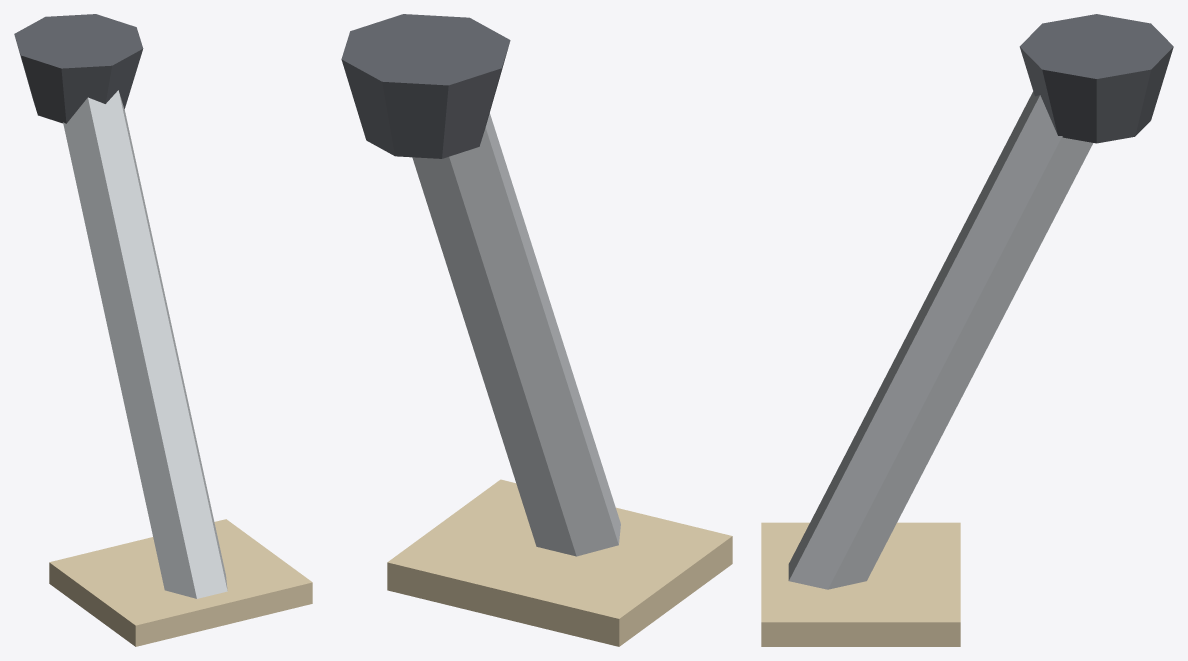
File: travelling-circus-and-big-top-tent-stake-45ad3a7f__36233.glb
3 views of the same model, side by side, from view 1: azimuth 30°, elevation 25°; view 2: azimuth 150°, elevation 25°; view 3: azimuth 270°, elevation 25° (orthographic). The views are drawn at different scales.
Parts seen in each view (by area): view 1: tent-stake-steel, tent-stake-sawdust, tent-stake-charcoal; view 2: tent-stake-steel, tent-stake-sawdust, tent-stake-charcoal; view 3: tent-stake-steel, tent-stake-sawdust, tent-stake-charcoal.
Part boxes in pixels (bbox=[...]): tent-stake-steel: bbox=[63, 90, 227, 598]; tent-stake-sawdust: bbox=[49, 519, 312, 646]; tent-stake-charcoal: bbox=[14, 14, 143, 123]; tent-stake-steel: bbox=[412, 113, 620, 556]; tent-stake-sawdust: bbox=[387, 479, 732, 646]; tent-stake-charcoal: bbox=[341, 14, 510, 158]; tent-stake-steel: bbox=[788, 91, 1093, 589]; tent-stake-sawdust: bbox=[761, 522, 960, 646]; tent-stake-charcoal: bbox=[1019, 14, 1173, 143].
Size of the model in its own units: 0.26 by 0.7065 by 0.455.
